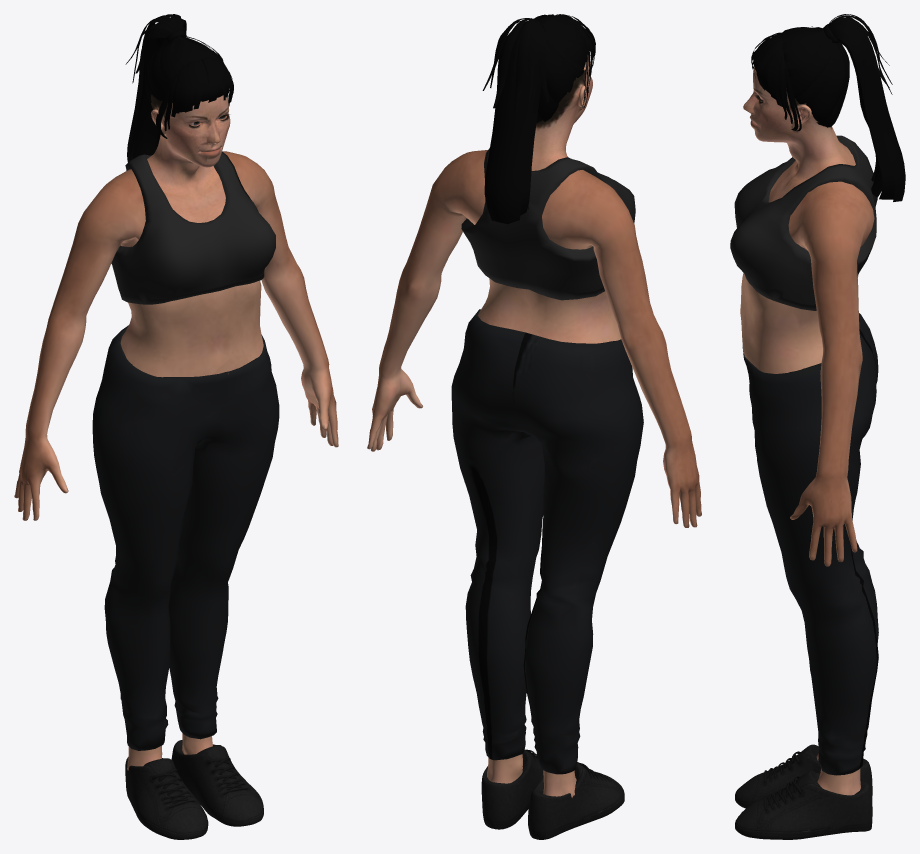
File: C2_JPG_Compressed.glb
3 renders of one model, left to right at view 1: azimuth 30°, elevation 25°; view 2: azimuth 150°, elevation 25°; view 3: azimuth 270°, elevation 25°, orthographic. The views are drawn at different scales.
Parts seen in each view (by area): view 1: C1, Arms, Shoes, C1.001; view 2: C1, Arms, Shoes, C1.001; view 3: C1, Arms, Shoes, C1.001.
Part boxes in pixels (x1=…): C1: x1=92, y1=14, x2=279, y2=750; Arms: x1=14, y1=151, x2=338, y2=520; Shoes: x1=125, y1=740, x2=263, y2=839; C1.001: x1=127, y1=733, x2=212, y2=770; C1: x1=451, y1=14, x2=643, y2=774; Arms: x1=367, y1=150, x2=701, y2=527; Shoes: x1=481, y1=749, x2=624, y2=839; C1.001: x1=487, y1=754, x2=576, y2=797; C1: x1=730, y1=14, x2=905, y2=775; Arms: x1=788, y1=181, x2=874, y2=566; Shoes: x1=735, y1=744, x2=872, y2=839; C1.001: x1=816, y1=753, x2=860, y2=795.
Size of the model in its own units: 3.04 by 7.31 by 1.45.
Materials: 8 (5 with a texture image).
